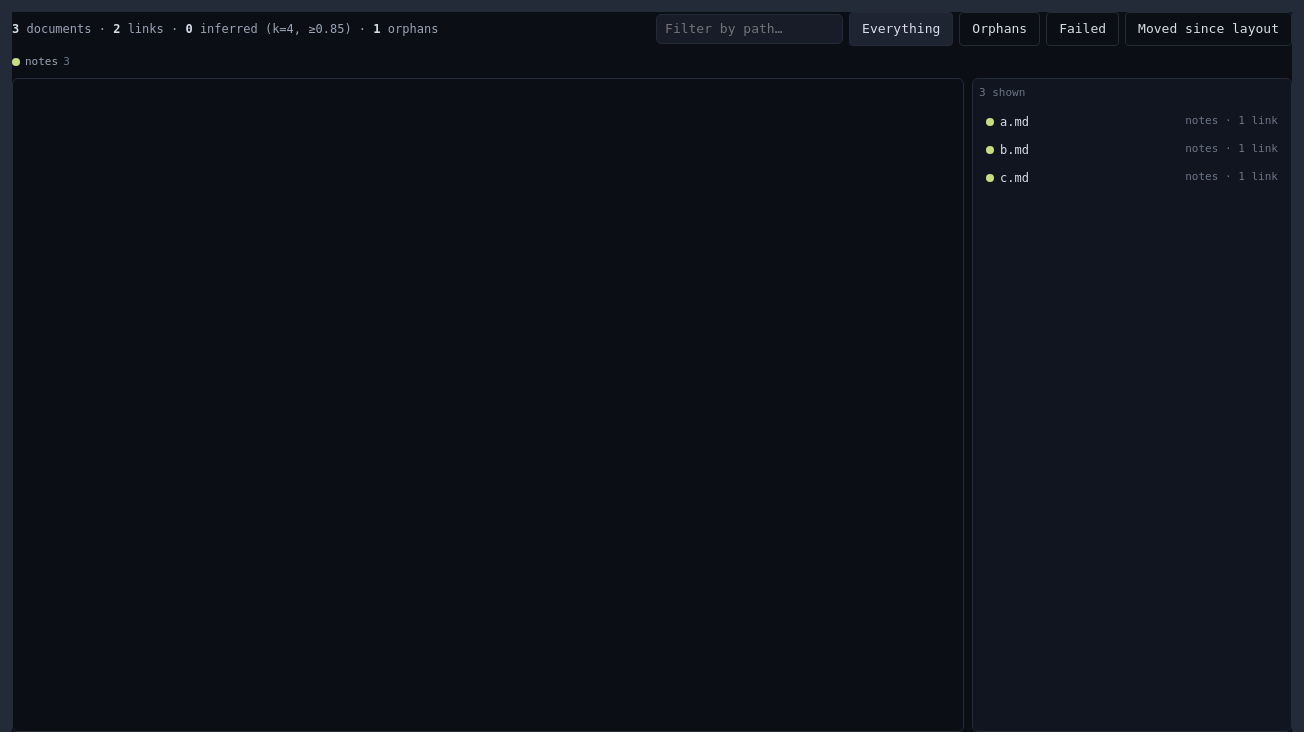
Scenario: KnowledgeGraph › selecting from the list reports the two-hop neighbourhood — the reach question
Click the button titled "a.md". click: x=1202, y=121
box: [979,108,1285,136]
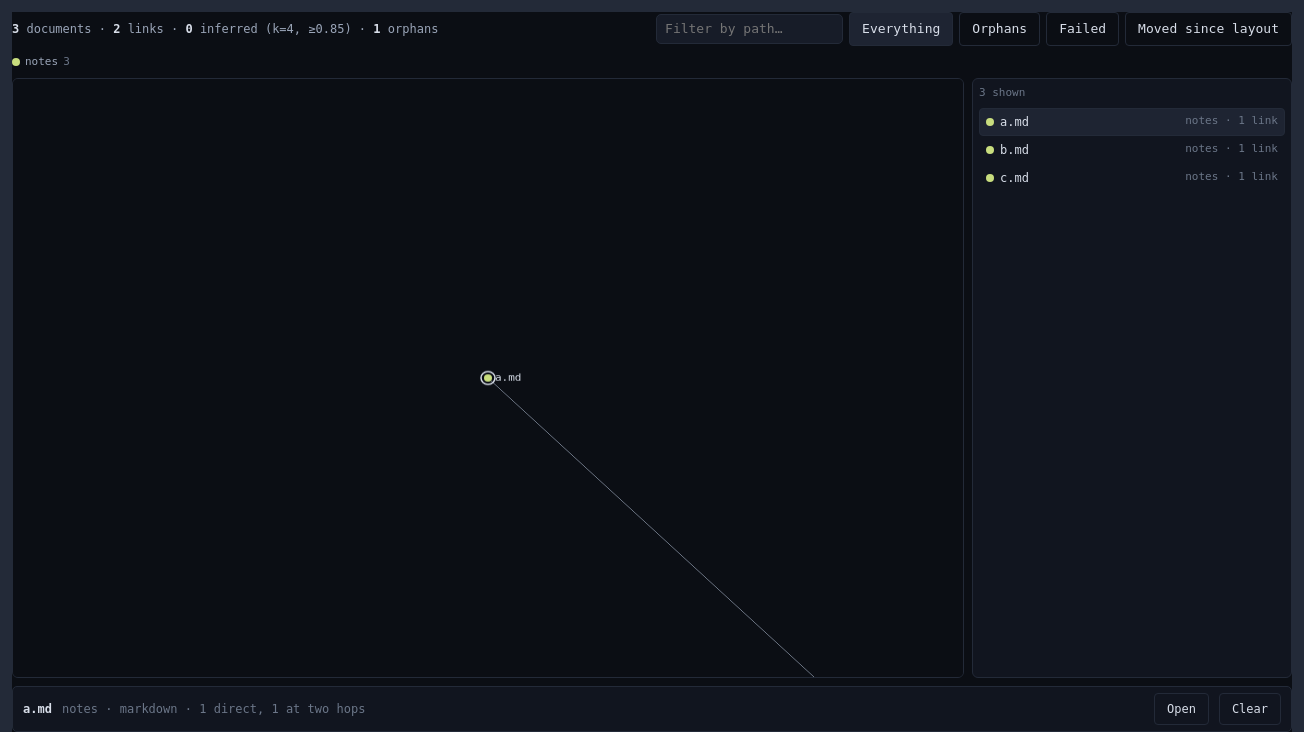
Check: the text "notes · markdown · 1 direct, 1 at two hops" is shown, box [62,702,365,716]
